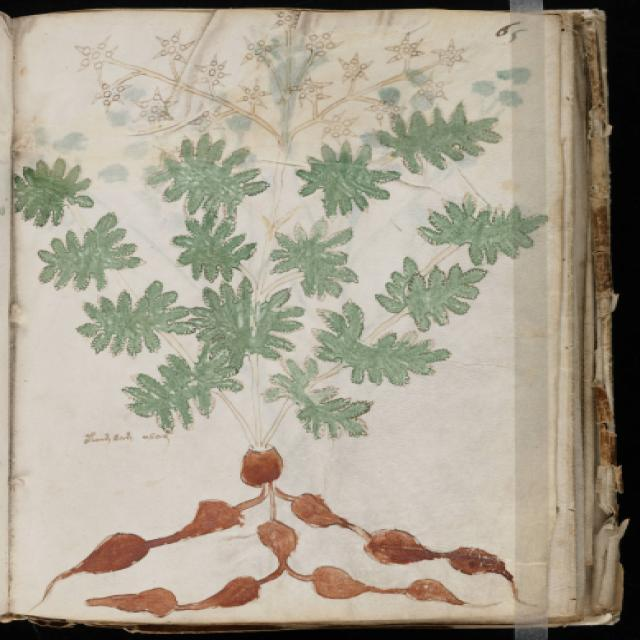plant: (6, 100, 548, 618)
